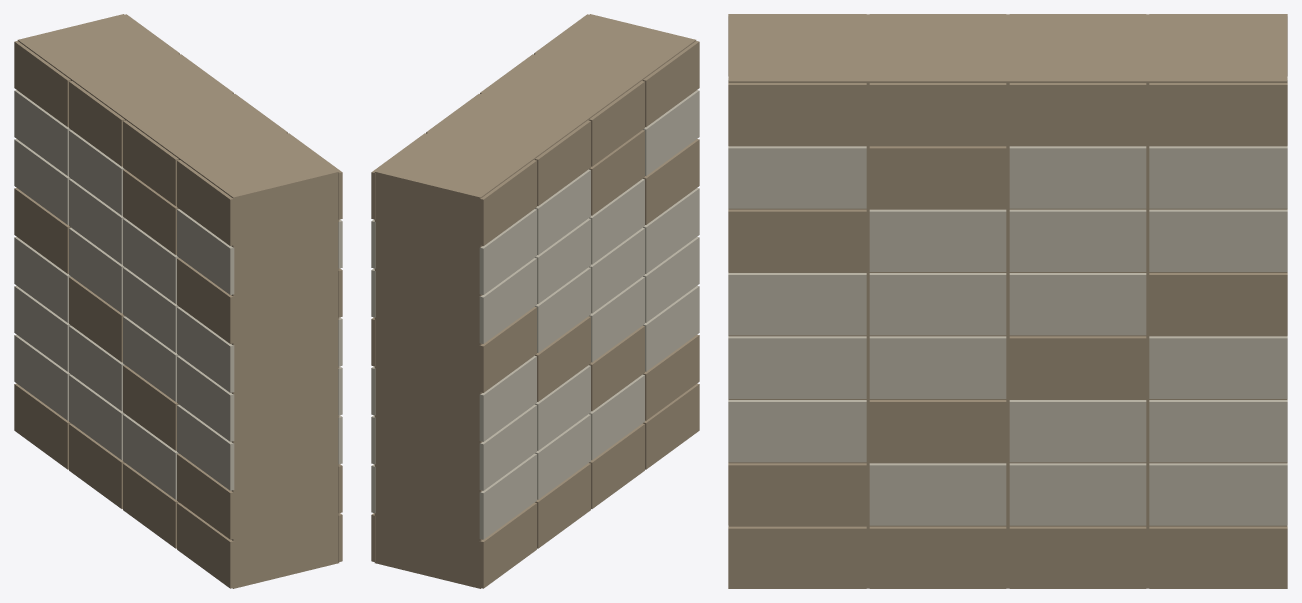
File: Curtain__Plain.fbx
3 views of the same model, side by side, from view 1: azimuth 30°, elevation 25°; view 2: azimuth 150°, elevation 25°; view 3: azimuth 270°, elevation 25° (orthographic). The views are drawn at different scales.
Visible parts, largest first — view 1: Curtain__Plain; view 2: Curtain__Plain; view 3: Curtain__Plain.
Boxes of the visible parts, bbox=[...] form: Curtain__Plain: bbox=[14, 14, 342, 588]; Curtain__Plain: bbox=[371, 14, 699, 588]; Curtain__Plain: bbox=[728, 14, 1287, 588].
Size of the model in its own units: 120 by 400 by 400.
Materials: 1 (1 with a texture image).
